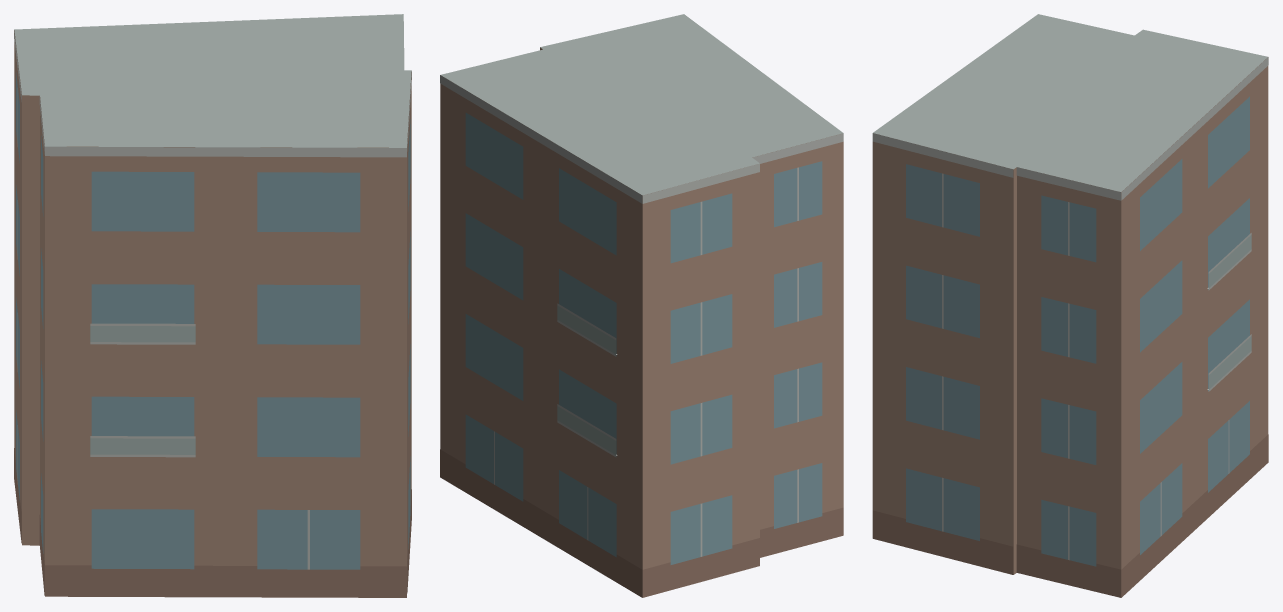
Rendered from survey-upis-32893446.glb.
3 renders of one model, left to right at view 1: azimuth 30°, elevation 25°; view 2: azimuth 150°, elevation 25°; view 3: azimuth 270°, elevation 25°, orthographic. The views are drawn at different scales.
Parts seen in each view (by area): view 1: survey-upis-32893446.tmp; view 2: survey-upis-32893446.tmp; view 3: survey-upis-32893446.tmp.
Part boxes in pixels (box(x1,y1,x2,y2)): survey-upis-32893446.tmp: box(14, 14, 411, 597); survey-upis-32893446.tmp: box(440, 14, 843, 597); survey-upis-32893446.tmp: box(872, 14, 1268, 597).
Bounding box in the file's own units: 10.84 × 11.5 × 10.18.
